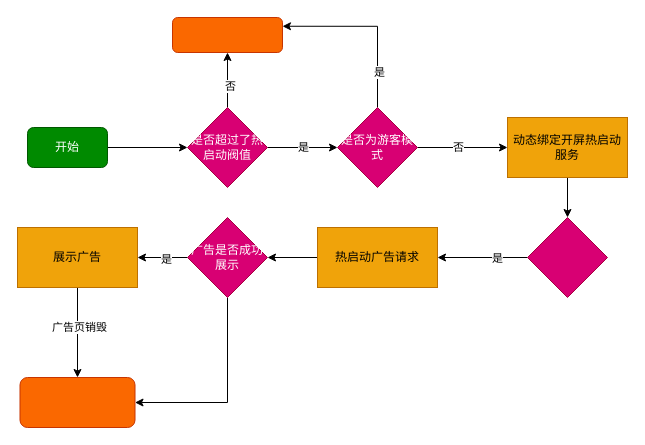
The diagram is 645 pixels wide and 445 high, and some of its shapes have lost their labels. Here are the shapes that lost their labels. From the top down, the box of each, then its label:
(172, 16, 282, 52): 结束
(526, 216, 608, 298): 是否触发绑定回调
(19, 376, 135, 428): 发起通知解绑service服务
